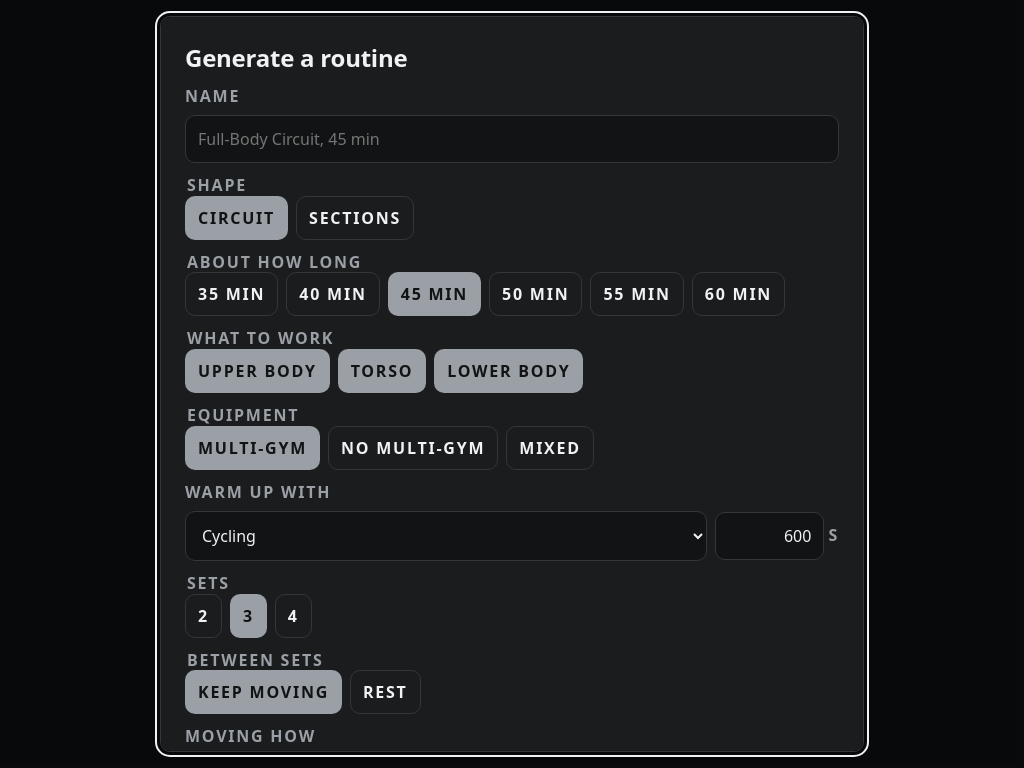
it: GenerateDialog › shows what it had to do that was not asked for
The image size is (1024, 768).
Note: The machine has five torso exercises, nowhere near an hour.
Click the button "Upper body".
click(257, 371)  # box [185, 349, 330, 393]
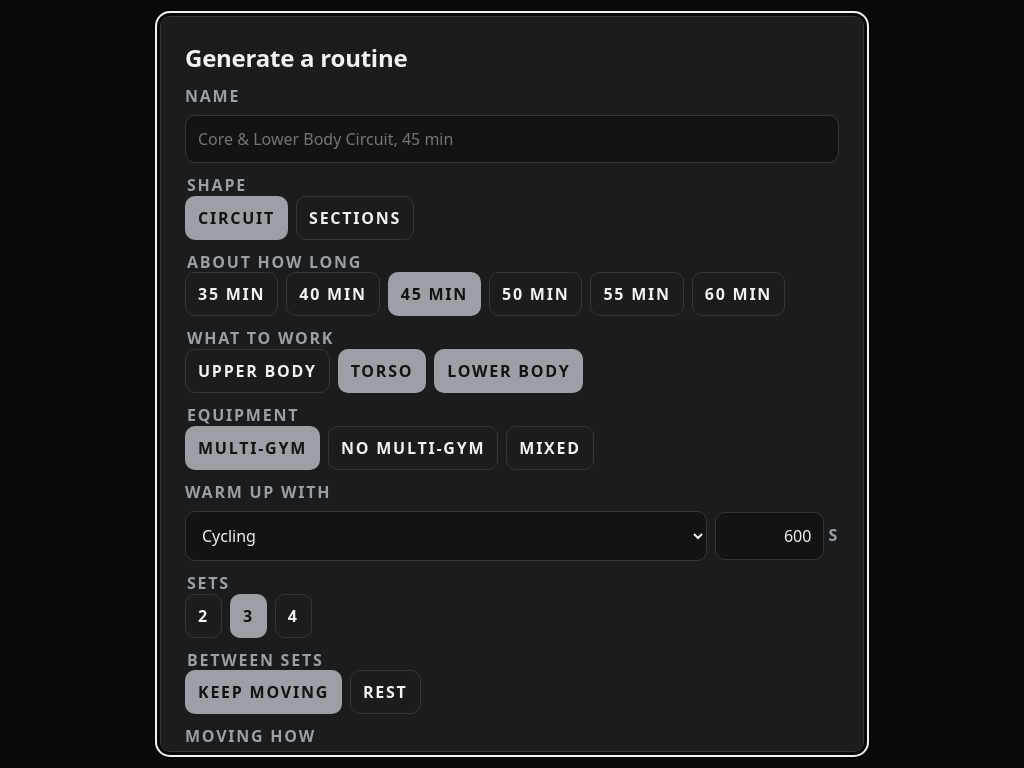
Click the button "Lower body".
click(509, 371)  # box [434, 349, 583, 393]
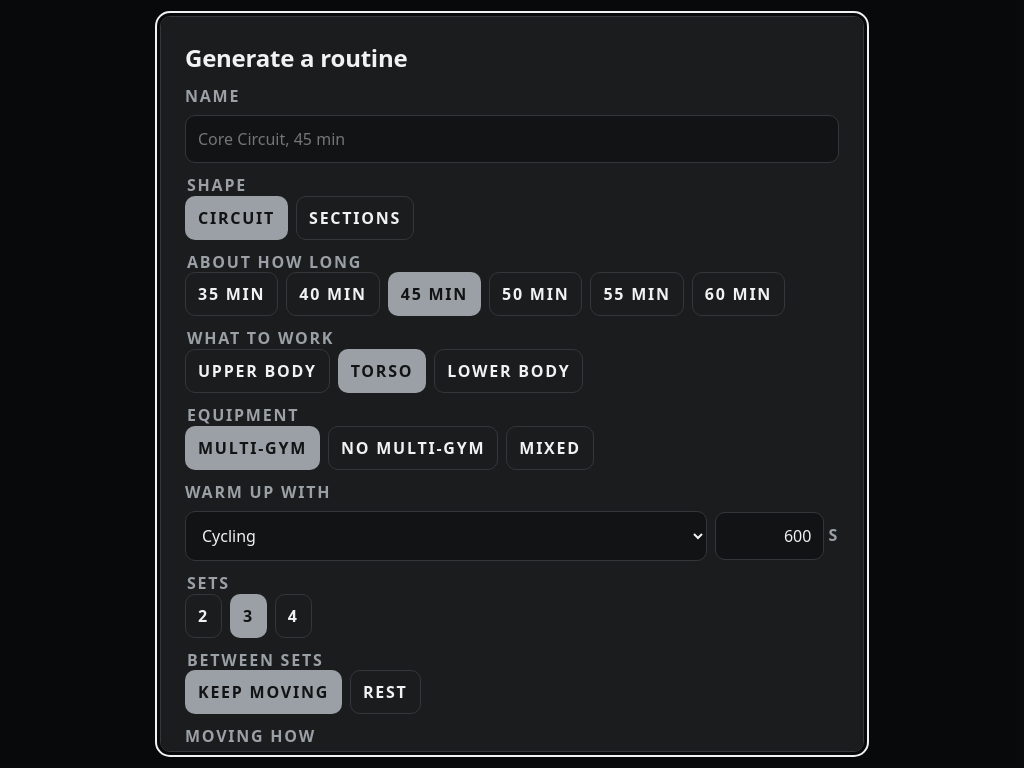
Click the button "50 min".
click(536, 294)  # box [489, 272, 582, 316]
(page scrolled)
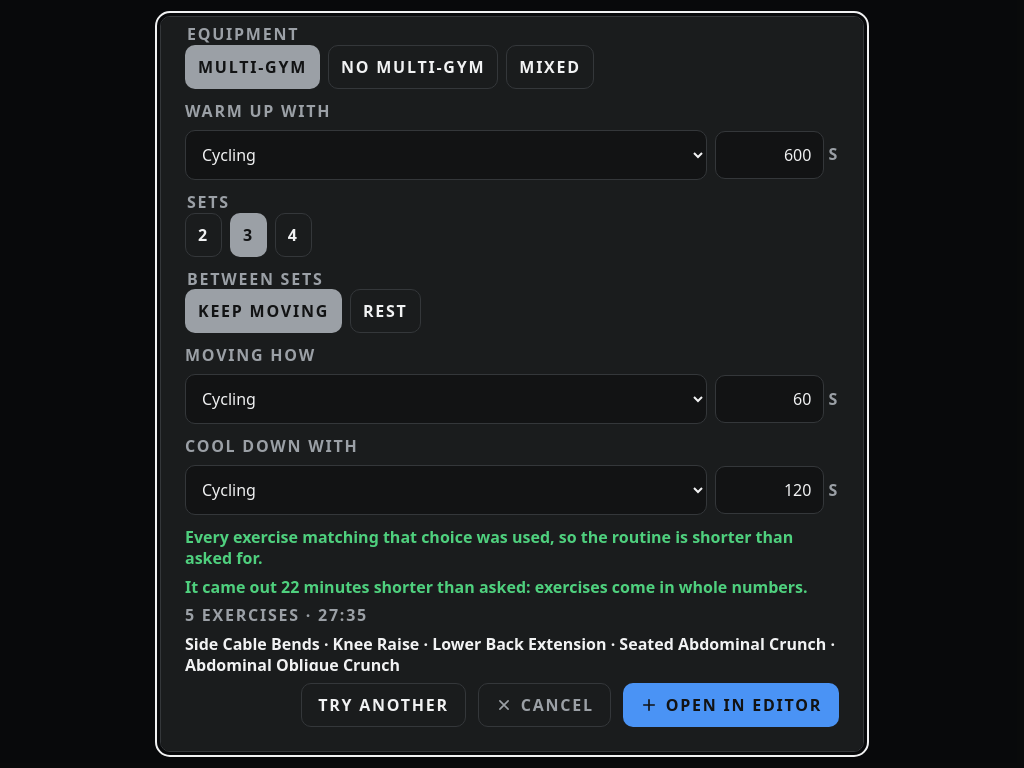
Expected: the text "Every exercise matching that choice was used" is shown, [185, 527, 793, 569]
